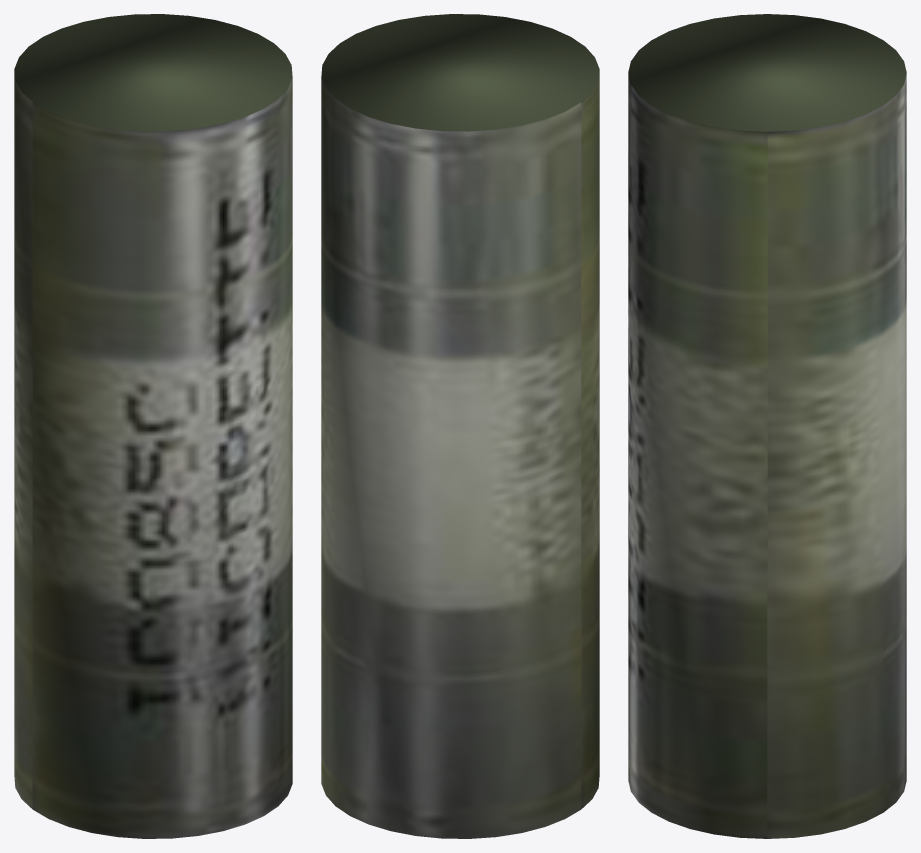
Rendered from 20140311GOPHDRGPT01916_green.fbx.
3 views of the same model, side by side, from view 1: azimuth 30°, elevation 25°; view 2: azimuth 150°, elevation 25°; view 3: azimuth 270°, elevation 25° (orthographic).
Visible parts, largest first — view 1: 圓柱體; view 2: 圓柱體; view 3: 圓柱體.
Boxes of the visible parts, <box> form: 圓柱體: <box>14,14,292,838</box>; 圓柱體: <box>321,14,599,838</box>; 圓柱體: <box>628,14,906,838</box>.
Size of the model in its own units: 85.17 by 239 by 85.17.
1 material, 1 textured.
